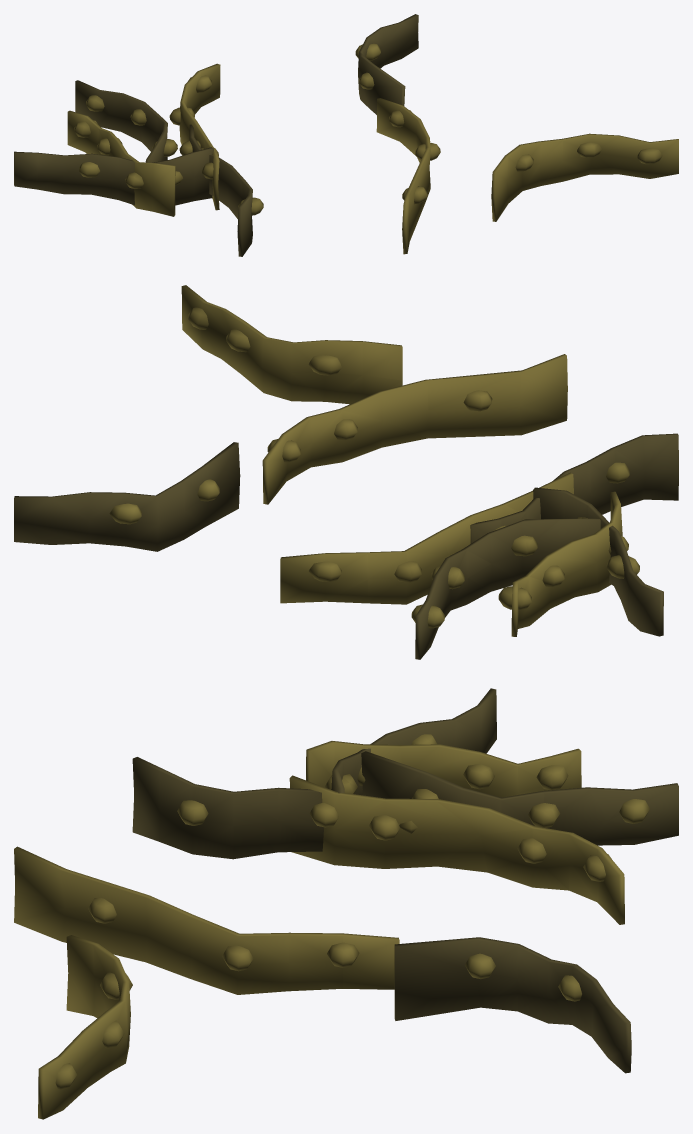
The model's file is shore_gc_wrack_b.glb.
3 views of the same model, one above another, from view 1: azimuth 30°, elevation 25°; view 2: azimuth 150°, elevation 25°; view 3: azimuth 270°, elevation 25° (orthographic). The views are drawn at different scales.
Parts seen in each view (by area): view 1: shore_gc_wrack_b; view 2: shore_gc_wrack_b; view 3: shore_gc_wrack_b.
Part boxes in pixels (x1,y1,x2,y2): shore_gc_wrack_b: (14,14,678,256); shore_gc_wrack_b: (14,285,678,659); shore_gc_wrack_b: (14,688,678,1119).
Size of the model in its own units: 5.91 by 0.6187 by 4.4.
